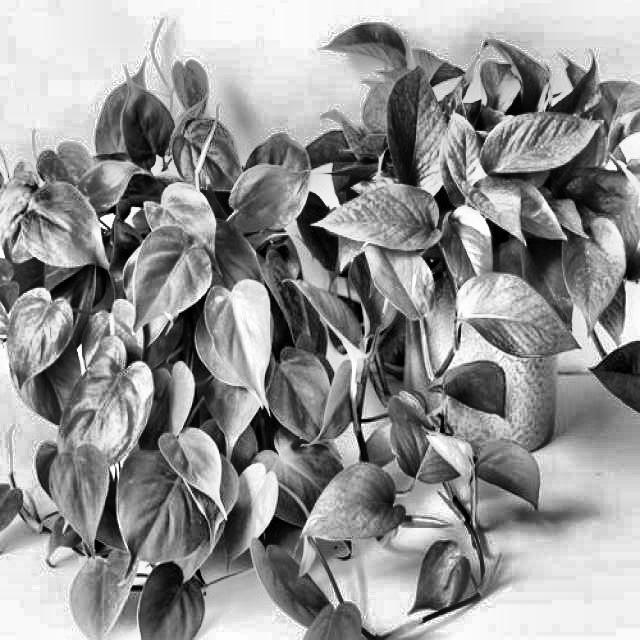plants: (3, 77, 350, 638), (370, 29, 639, 475)
